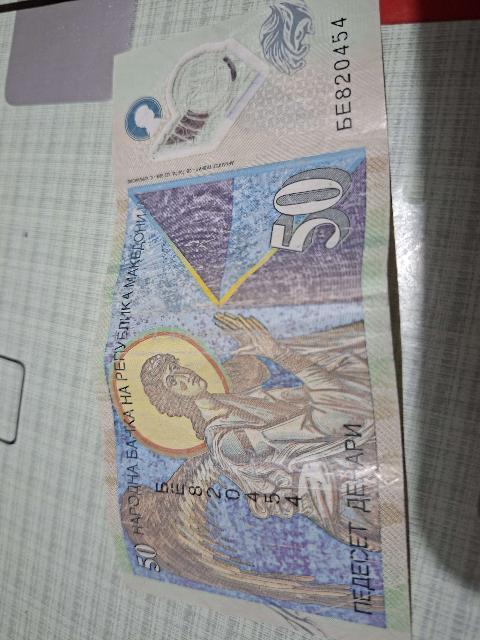50_note: (98, 0, 418, 639)
